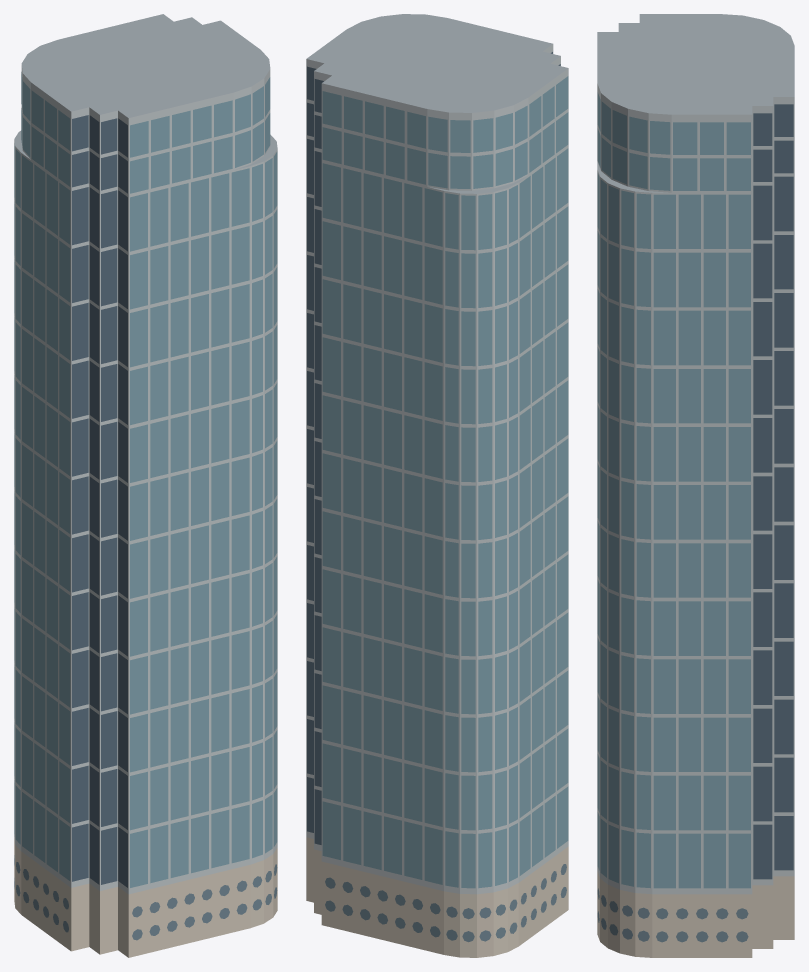
File: la-two-california-plaza.glb
3 renders of one model, left to right at view 1: azimuth 30°, elevation 25°; view 2: azimuth 150°, elevation 25°; view 3: azimuth 270°, elevation 25°, orthographic.
Parts seen in each view (by area): view 1: Two California Plaza; view 2: Two California Plaza; view 3: Two California Plaza.
Boxes of the visible parts, x1=… form: Two California Plaza: x1=14, y1=14, x2=277, y2=957; Two California Plaza: x1=306, y1=14, x2=568, y2=957; Two California Plaza: x1=597, y1=14, x2=794, y2=957.
Size of the model in its own units: 61.1 by 238 by 50.5.
